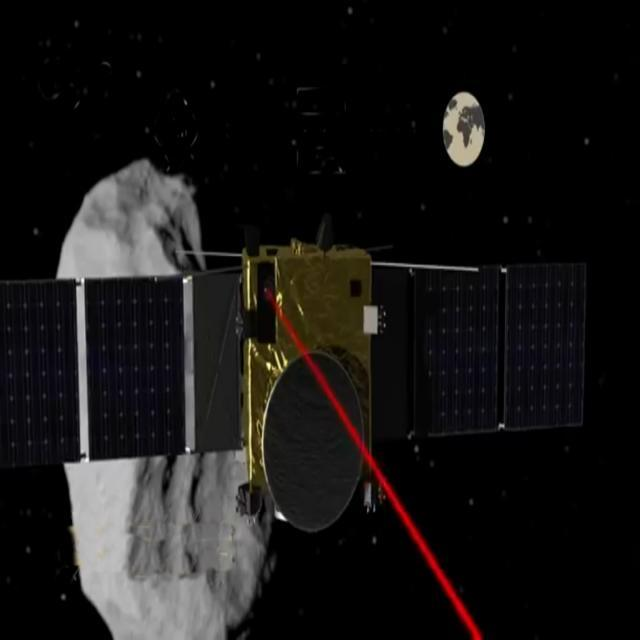sat: (0, 222, 622, 558)
